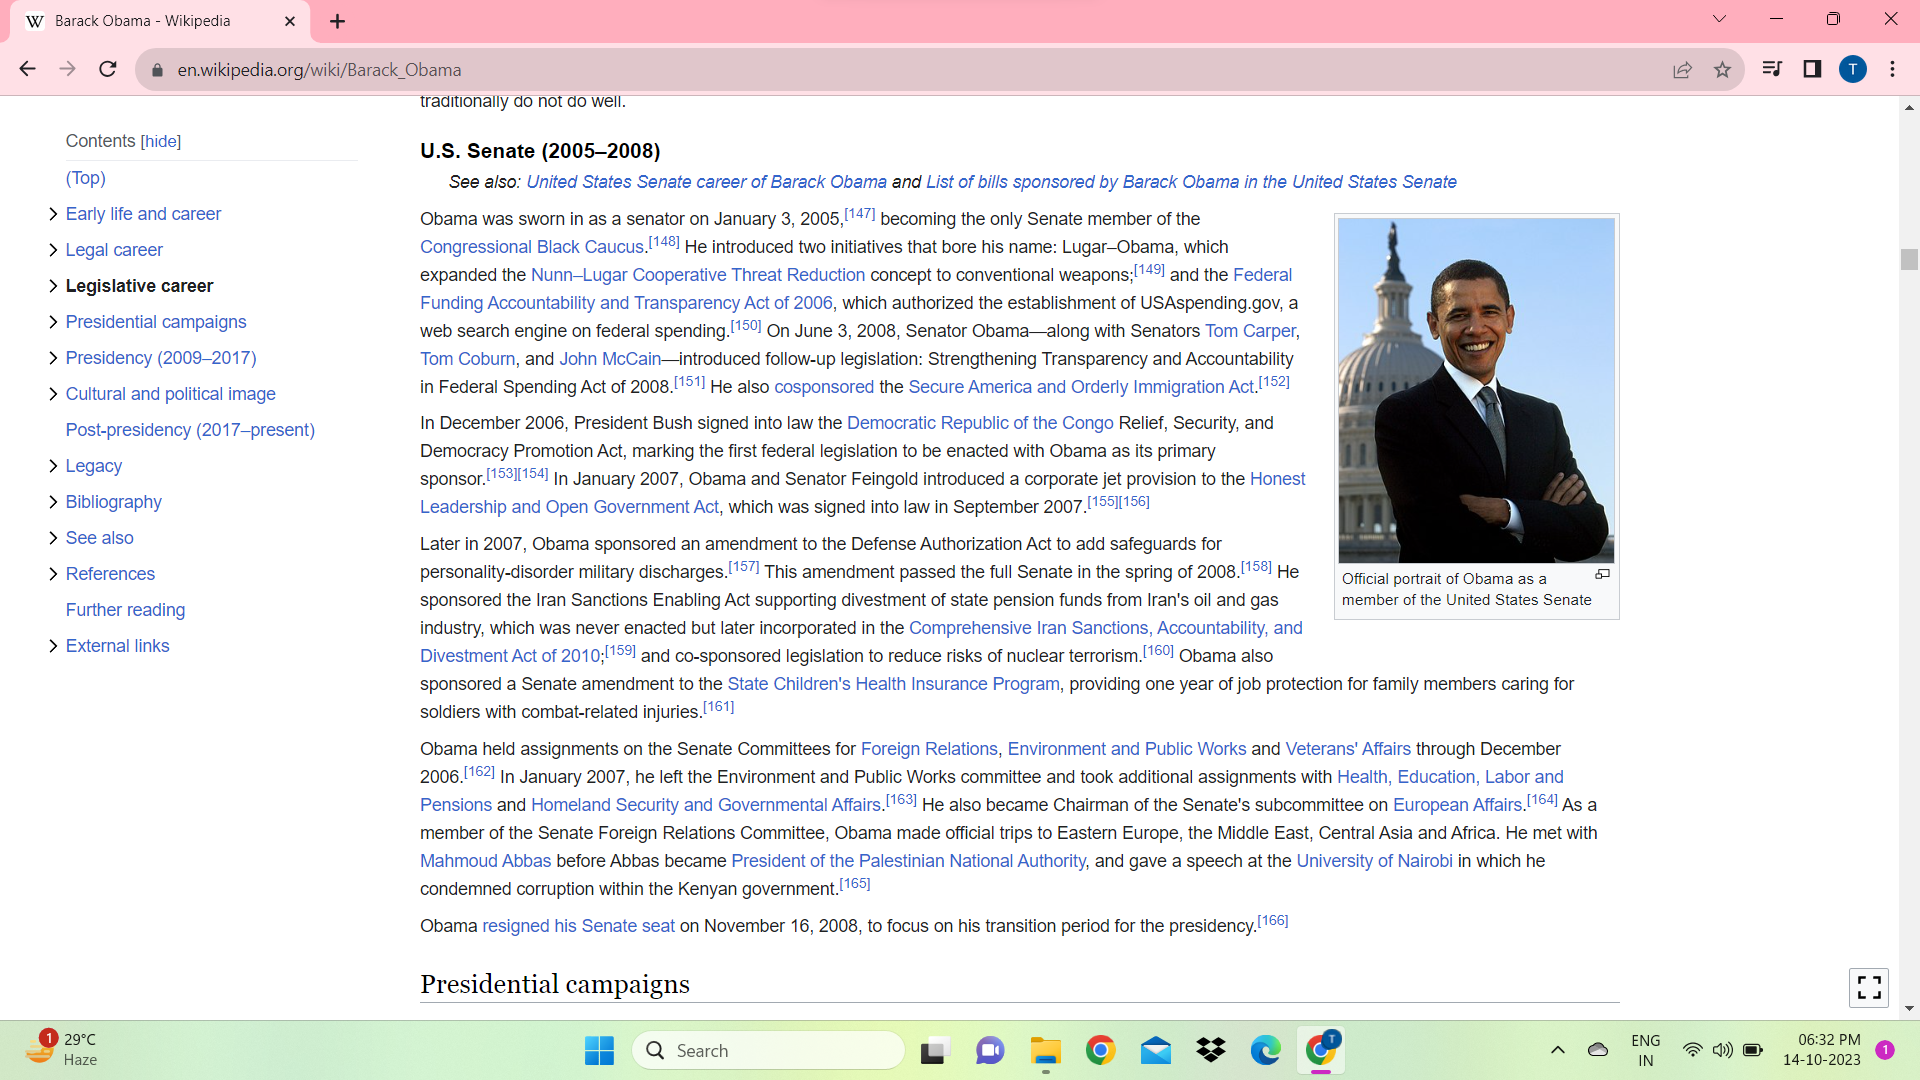Image: (1316, 211, 1655, 572)
Paragraph: (407, 200, 1307, 520), (406, 737, 1618, 902), (411, 533, 1313, 669), (407, 671, 1594, 729), (406, 913, 1320, 949), (440, 175, 1534, 204), (411, 967, 709, 1011), (393, 133, 695, 169), (62, 418, 335, 447), (62, 376, 278, 407), (69, 343, 269, 369), (57, 471, 193, 509), (61, 306, 255, 332), (58, 199, 231, 228), (65, 272, 214, 299), (67, 625, 177, 662), (51, 128, 196, 153), (61, 593, 194, 617), (58, 451, 153, 477), (61, 237, 175, 258), (65, 559, 166, 583), (61, 522, 140, 549), (54, 169, 132, 186)
